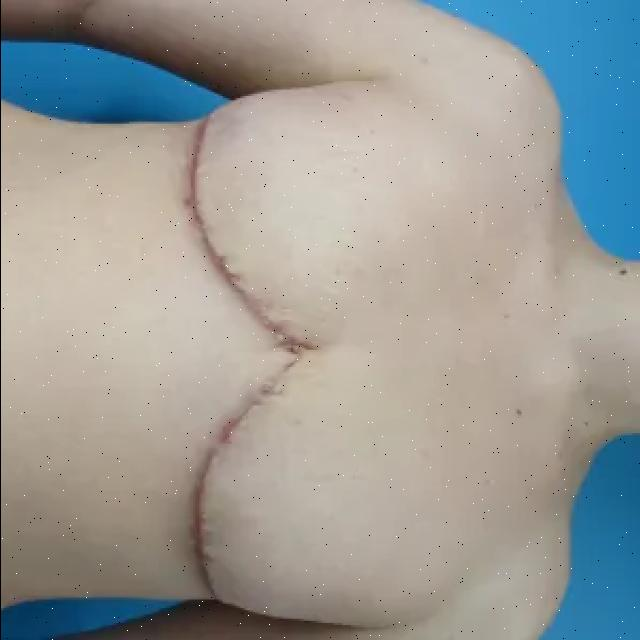Seno herido: (165, 352, 400, 620), (167, 75, 402, 343)
